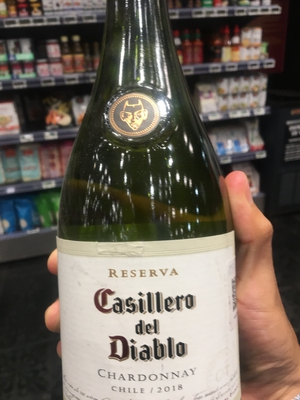casillero del diablo chardonnay: (56, 17, 247, 400)
